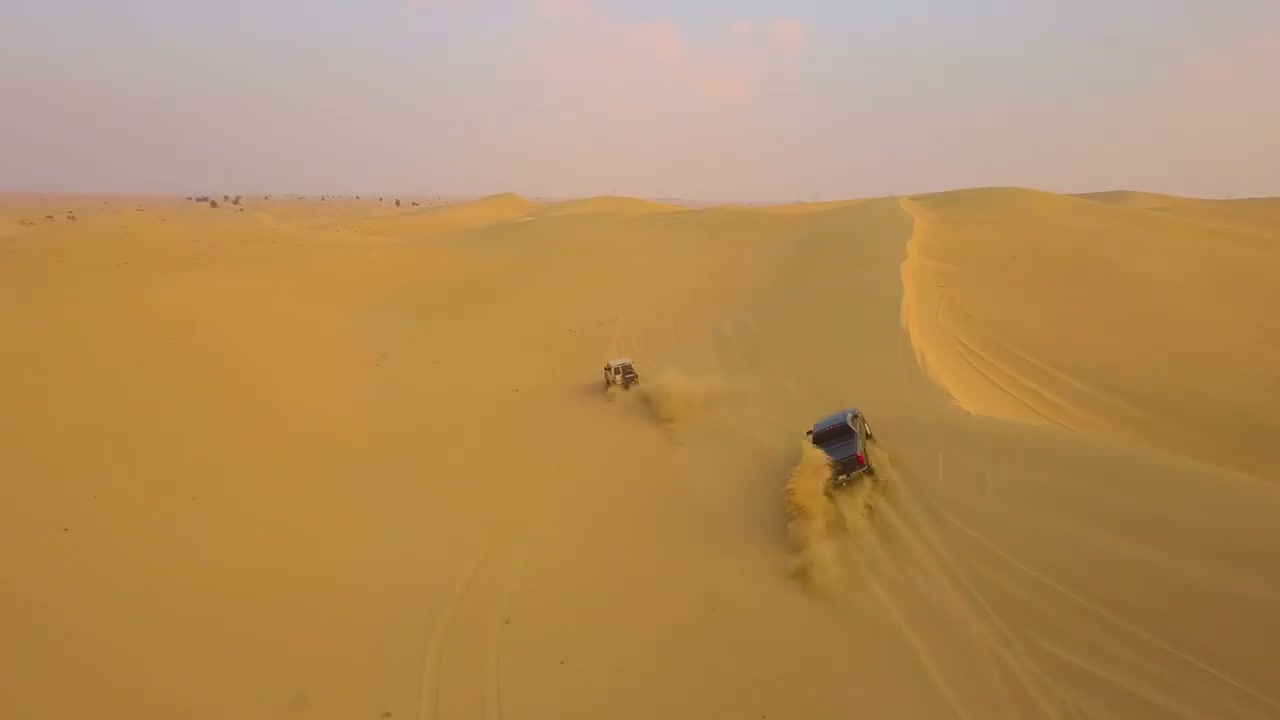vehicle_track: (842, 451, 1279, 719), (928, 280, 1270, 497), (419, 537, 524, 719)
